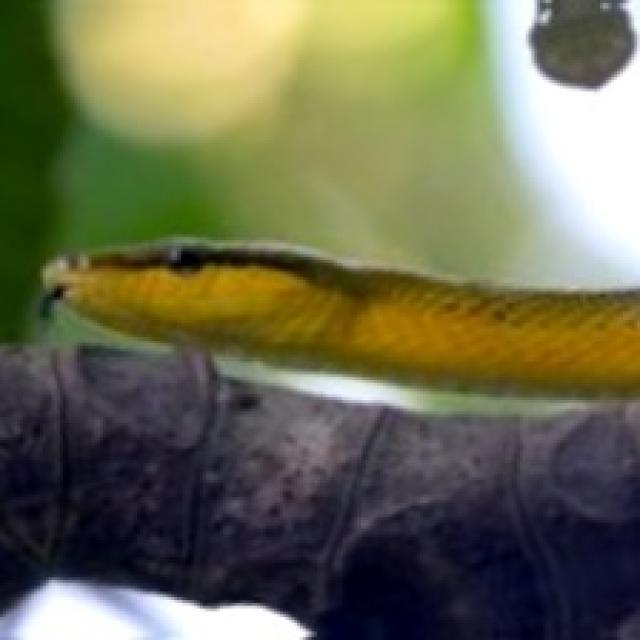red-tailed green ratsnake: (46, 240, 637, 397)
